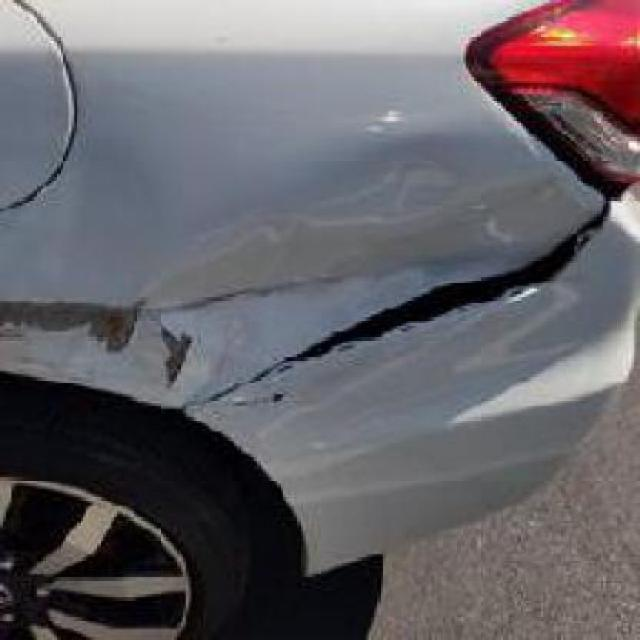dent-or-scratch: (5, 280, 344, 356)
